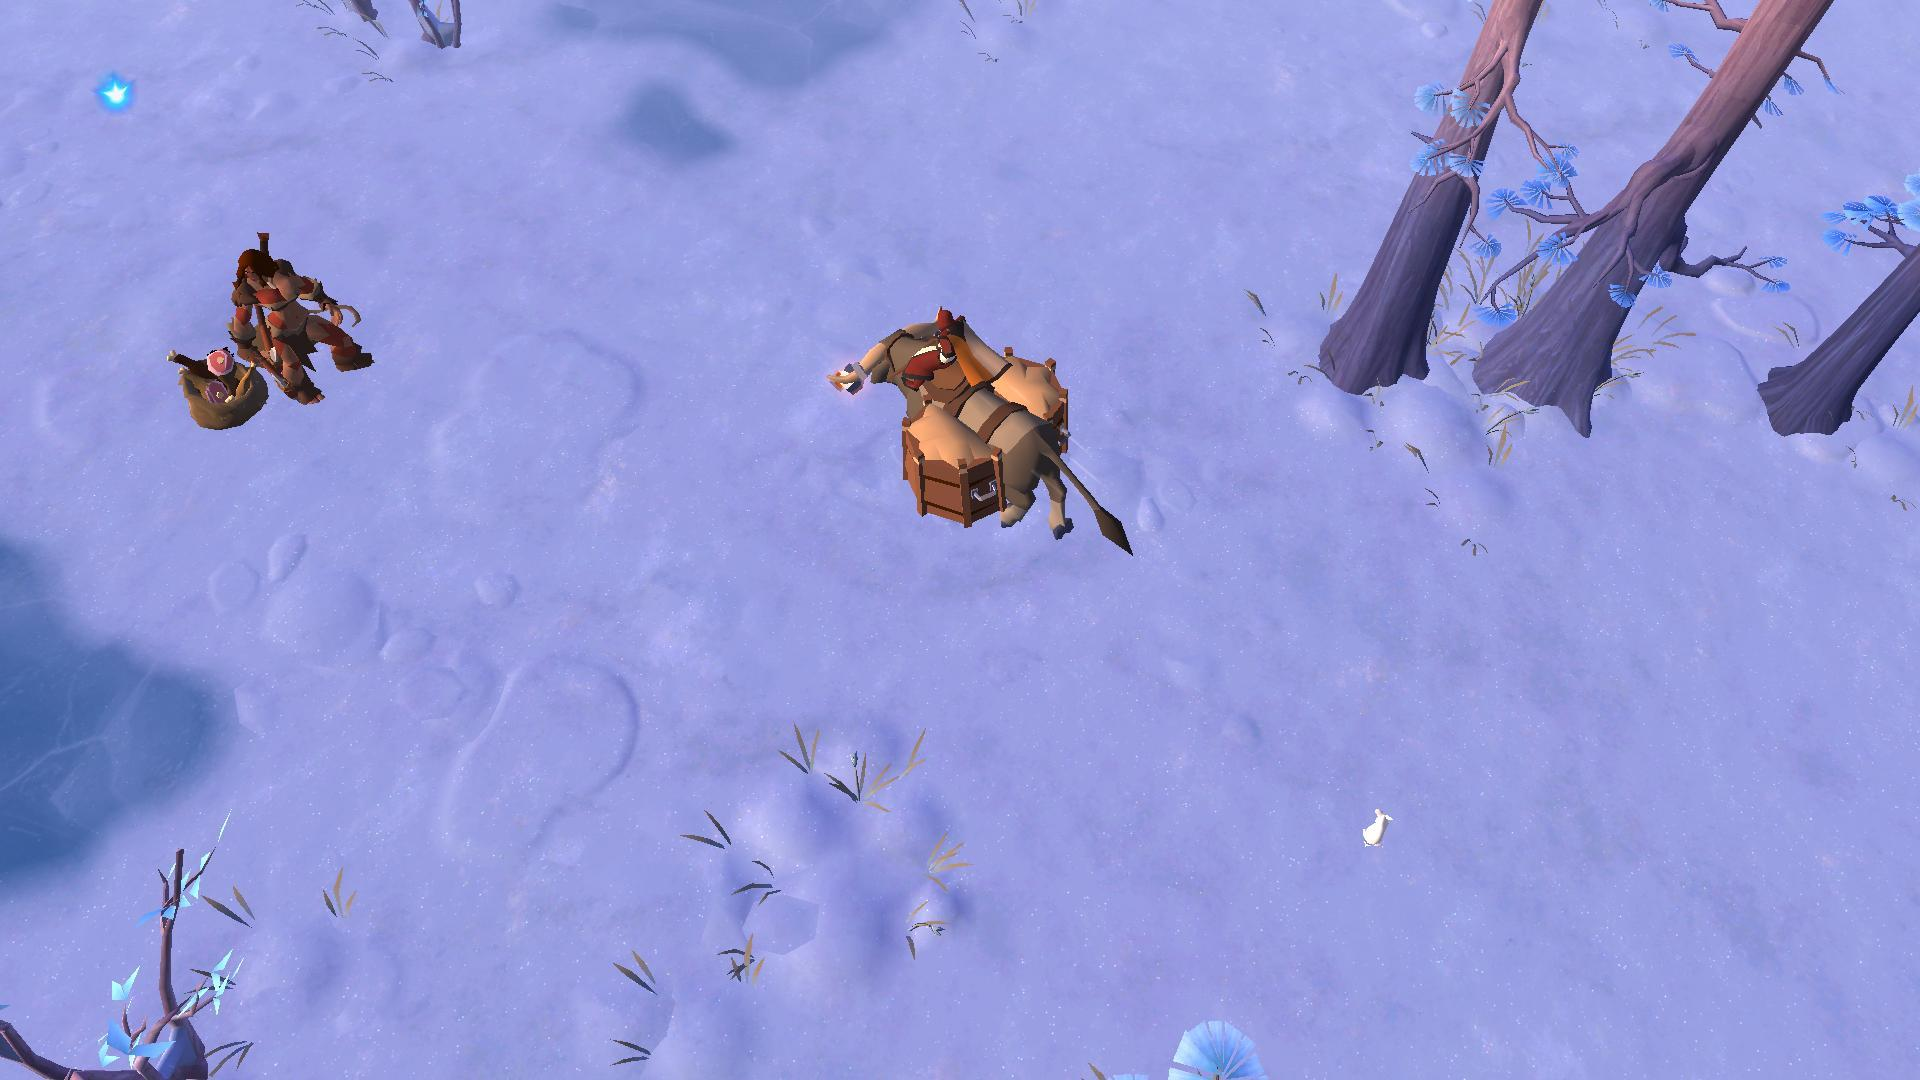enemy_factionKeeper: (227, 236, 376, 406)
